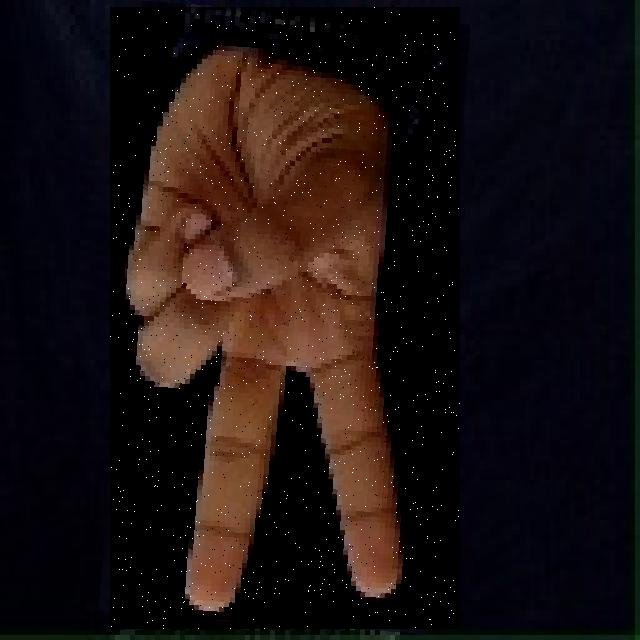No: (110, 7, 460, 629)
